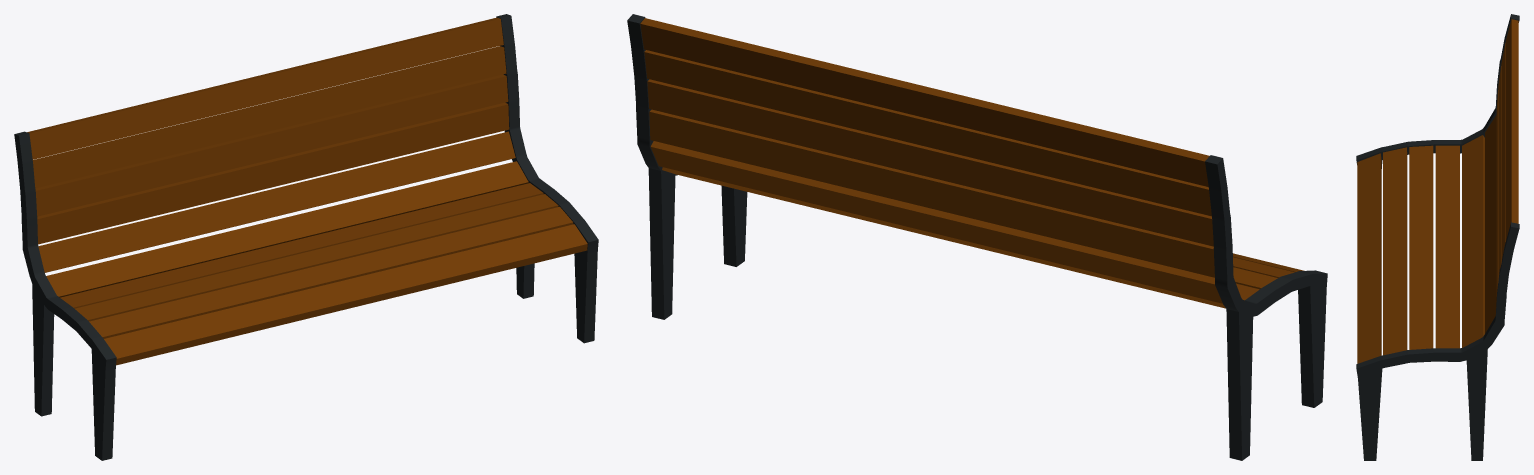
File: bench.fbx
3 renders of one model, left to right at view 1: azimuth 30°, elevation 25°; view 2: azimuth 150°, elevation 25°; view 3: azimuth 270°, elevation 25°, orthographic. The views are drawn at different scales.
Parts seen in each view (by area): view 1: Bench; view 2: Bench; view 3: Bench.
Part boxes in pixels (<box>): Bench: <box>14,14,598,460</box>; Bench: <box>627,14,1327,460</box>; Bench: <box>1356,14,1519,460</box>.
Size of the model in its own units: 104 by 53.57 by 33.84.
